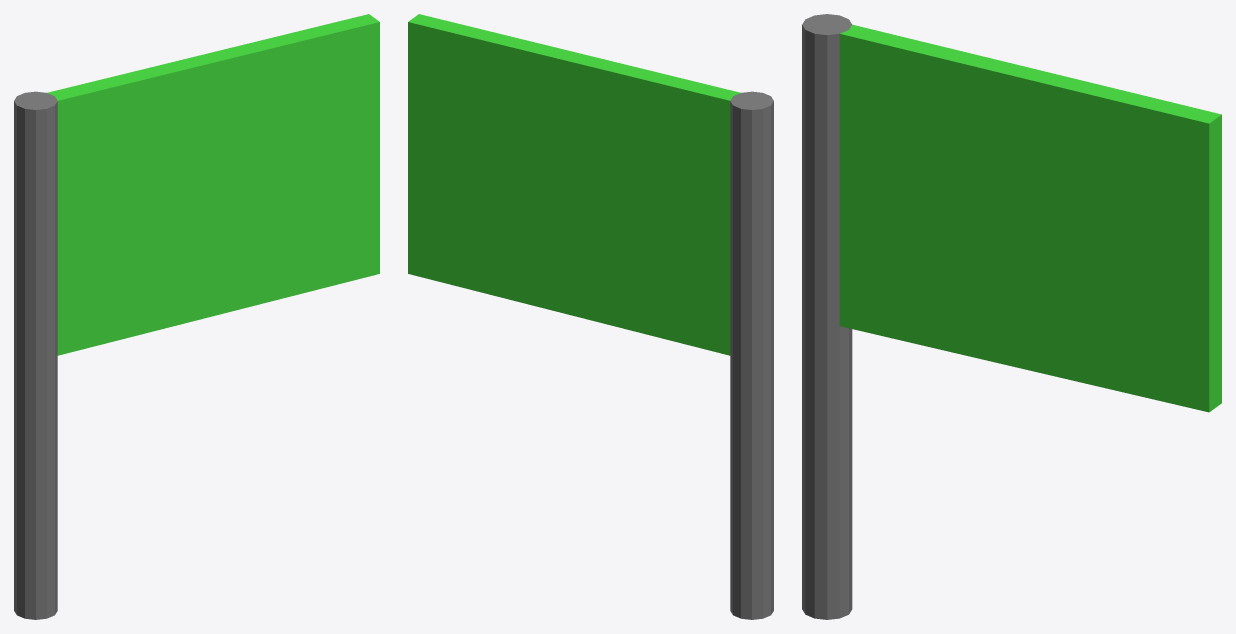
Rendered from F-Flag Square.fbx.
3 renders of one model, left to right at view 1: azimuth 30°, elevation 25°; view 2: azimuth 150°, elevation 25°; view 3: azimuth 330°, elevation 25°, orthographic. The views are drawn at different scales.
Visible parts, largest first — view 1: FlagSquare; view 2: FlagSquare; view 3: FlagSquare.
Part boxes in pixels (left/top/right/bottom): FlagSquare: left=14, top=14, right=379, bottom=619; FlagSquare: left=408, top=14, right=773, bottom=619; FlagSquare: left=802, top=14, right=1221, bottom=619.
Size of the model in its own units: 4.72 by 6.43 by 0.5.
